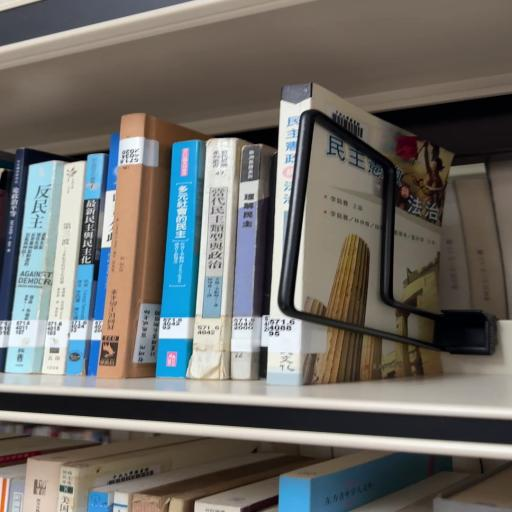reverse: (98, 114, 210, 379)
